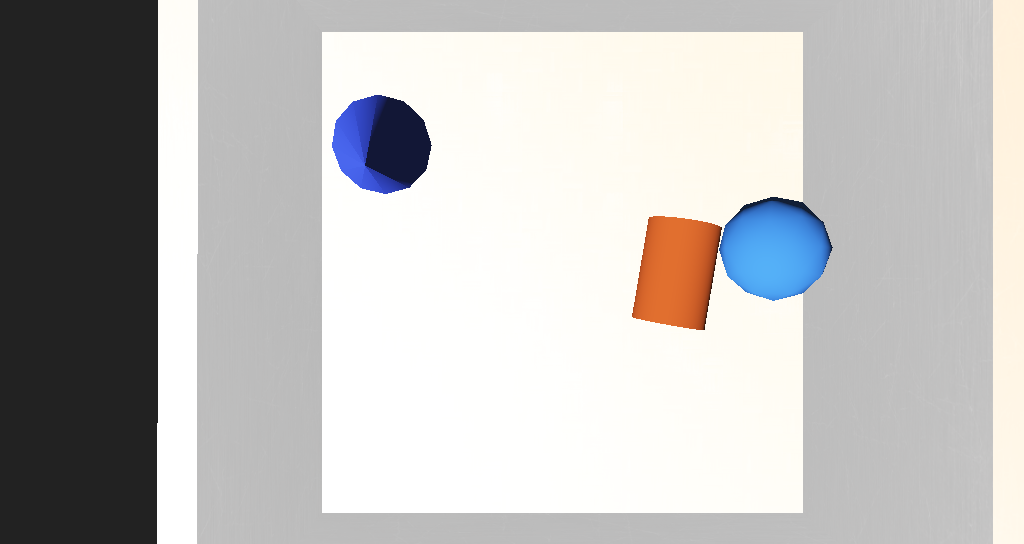cone: (549, 243, 610, 291)
cylinder: (344, 188, 424, 251)
sphere: (603, 234, 664, 282)
